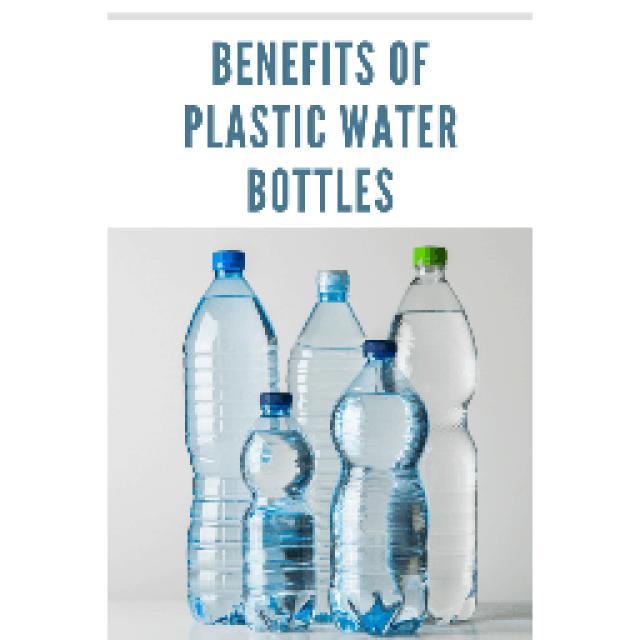plastic_water_bottles: (178, 240, 254, 630), (322, 338, 423, 625), (248, 382, 318, 623)
